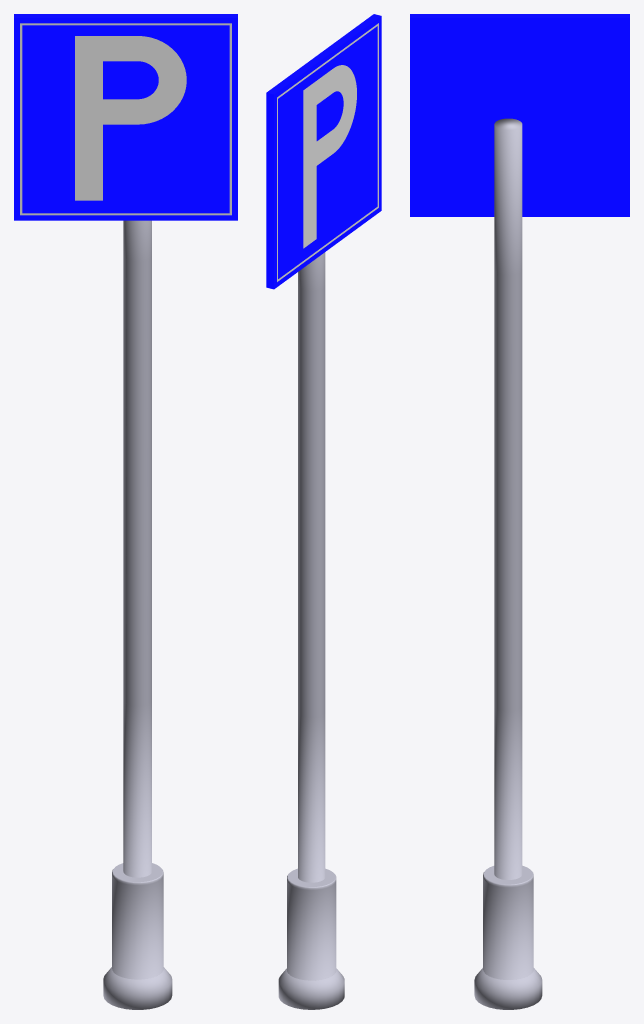
Rendered from ParkYeriTabelasi.dae.
3 views of the same model, side by side, from view 1: azimuth 90°, elevation 25°; view 2: azimuth 150°, elevation 25°; view 3: azimuth 270°, elevation 25° (orthographic). The views are drawn at different scales.
Parts seen in each view (by area): view 1: Park_sing, Park_body; view 2: Park_body, Park_sing; view 3: Park_sing, Park_body.
Boxes of the visible parts, x1,y1,x2,y2 form: Park_sing: (14,14,237,220); Park_body: (103,220,172,1009); Park_body: (278,252,344,1009); Park_sing: (266,14,381,289); Park_sing: (410,14,629,216); Park_body: (474,118,542,1009).
Bounding box in the file's own units: 0.1839 × 0.6 × 2.93.
